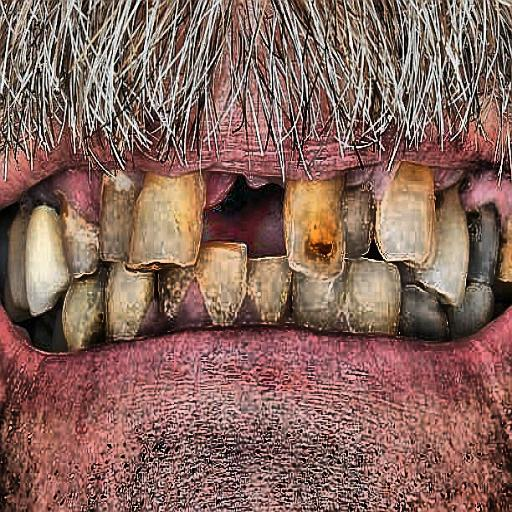Calculus: (4, 141, 510, 372)
